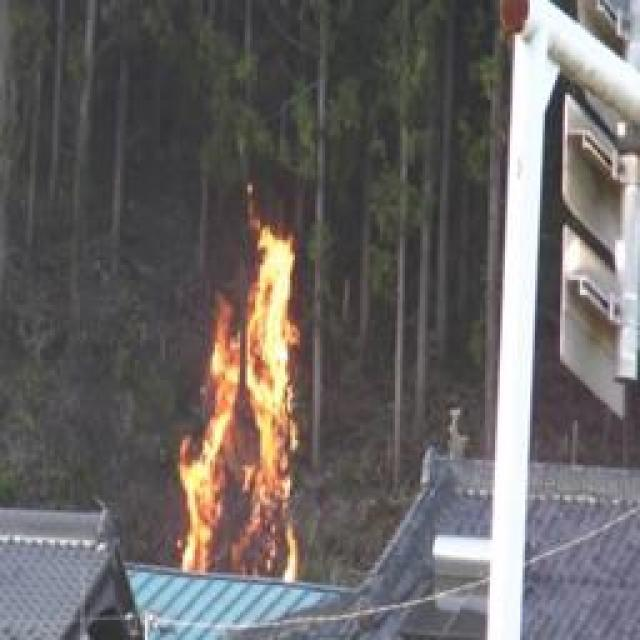fire: (172, 178, 306, 586)
